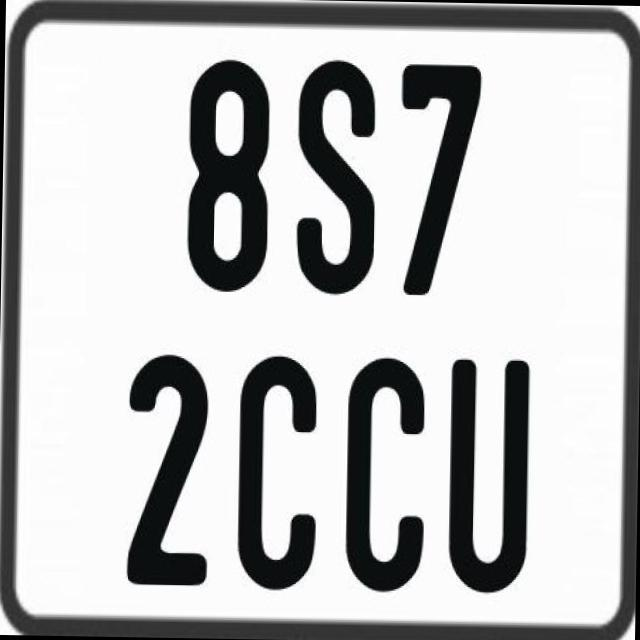2: (126, 352, 210, 593)
7: (398, 59, 488, 297)
8: (184, 54, 276, 294)
C: (236, 352, 320, 594), (340, 358, 422, 598)
S: (294, 58, 381, 300)
U: (448, 358, 536, 597)
